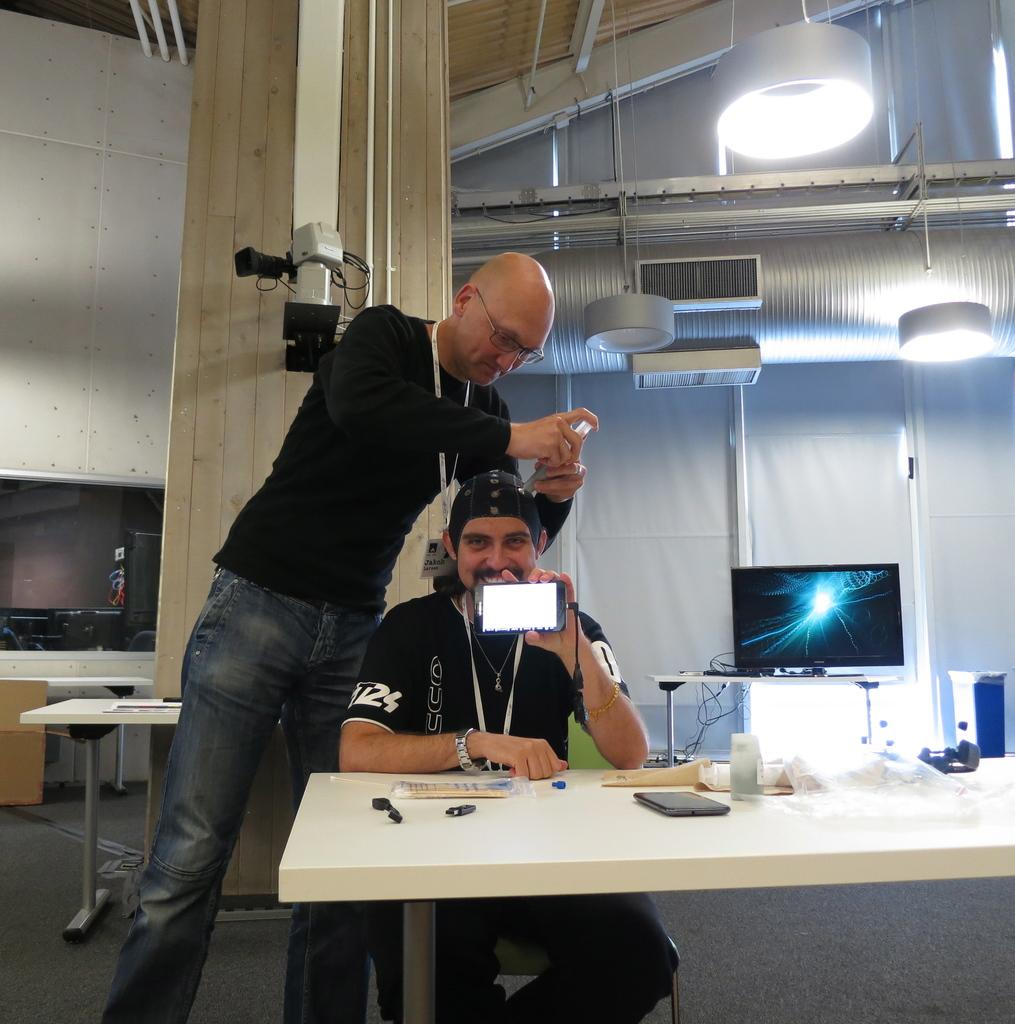Computer-monitor: (725, 558, 909, 679)
